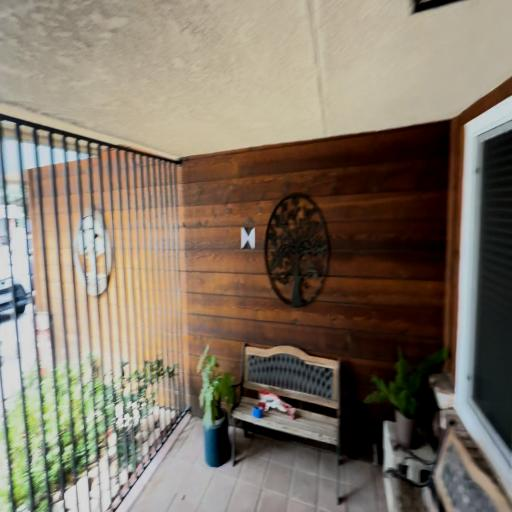target: (240, 227, 256, 248)
